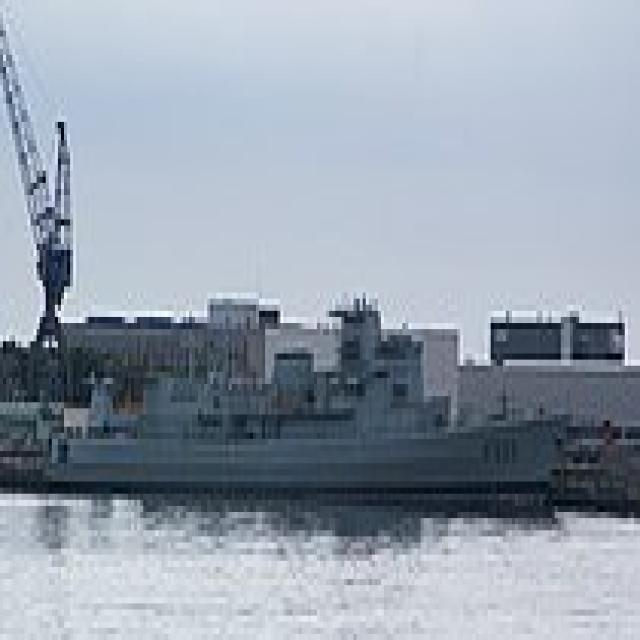Warship: (27, 280, 573, 512)
